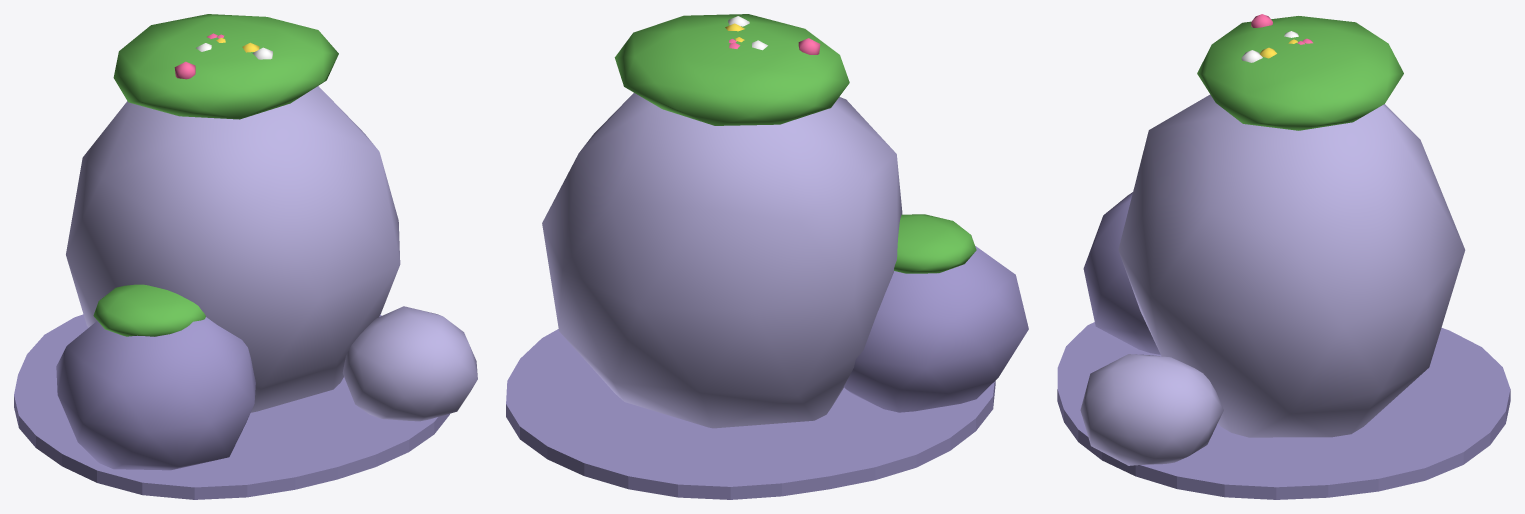
File: terrain_stone.glb
3 views of the same model, side by side, from view 1: azimuth 30°, elevation 25°; view 2: azimuth 150°, elevation 25°; view 3: azimuth 270°, elevation 25° (orthographic). The views are drawn at different scales.
Parts seen in each view (by area): view 1: terrain_stone; view 2: terrain_stone; view 3: terrain_stone.
Boxes of the visible parts, x1,y1,x2,y2 form: terrain_stone: (14,14,477,499); terrain_stone: (506,14,1028,499); terrain_stone: (1057,14,1510,499).
Size of the model in its own units: 1.7 by 1.52 by 1.61.
